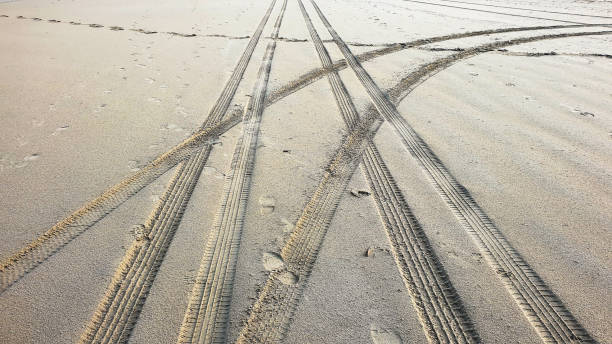human_foot_print: (258, 246, 310, 288), (27, 152, 54, 178), (372, 320, 401, 344), (52, 117, 73, 140), (372, 243, 390, 269), (574, 106, 594, 129), (261, 196, 278, 214), (356, 184, 372, 203), (142, 79, 161, 92), (505, 82, 515, 97)
vehicle_track: (311, 0, 592, 342), (0, 8, 270, 293), (0, 113, 240, 293), (0, 116, 239, 293), (178, 0, 286, 342), (237, 112, 381, 342), (238, 107, 378, 342), (80, 145, 211, 342), (361, 141, 478, 342), (355, 24, 605, 61), (403, 0, 583, 23), (439, 0, 611, 18)
